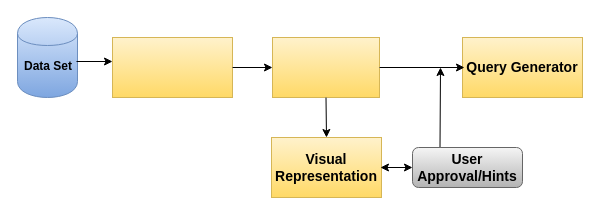
The diagram is 600 pixels wide and 215 high, and some of its shapes have lost their labels. The shapes that lost their labels are listed below. From the top down, each one's centre as x and y in pixels, then its label:
At [172,67]: "Data Processor".
At [326,67]: "Hint Generator".
